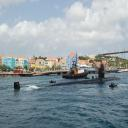submarine: (14, 64, 121, 94)
